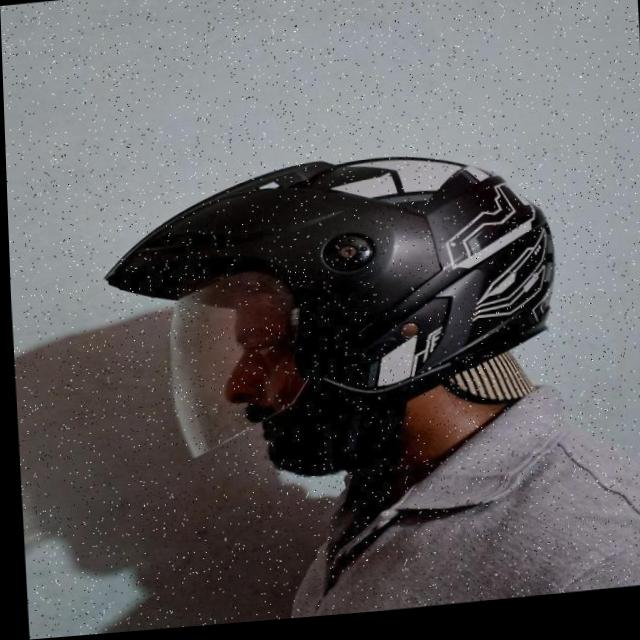helmet: (99, 149, 560, 498)
